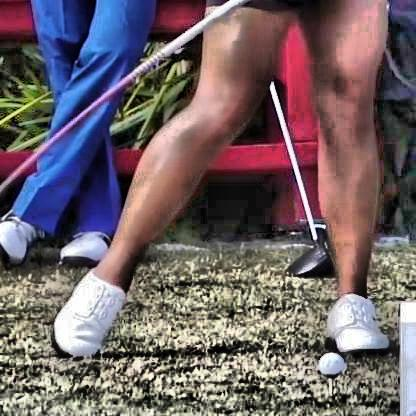golfball: (314, 350, 342, 376)
